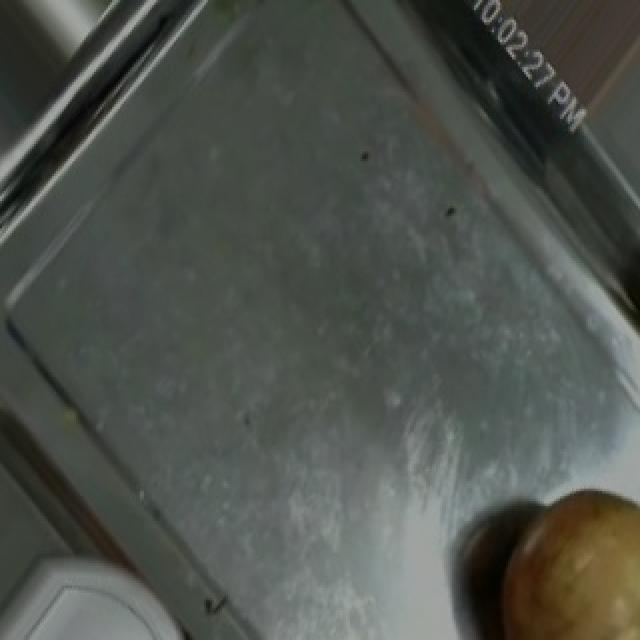fruit: (480, 466, 640, 640)
